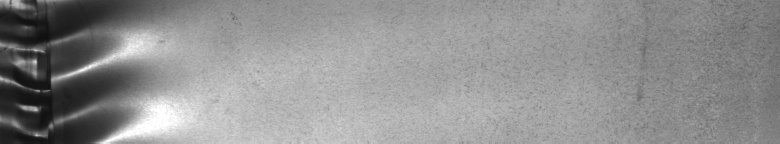ke: (4, 4, 122, 136)
